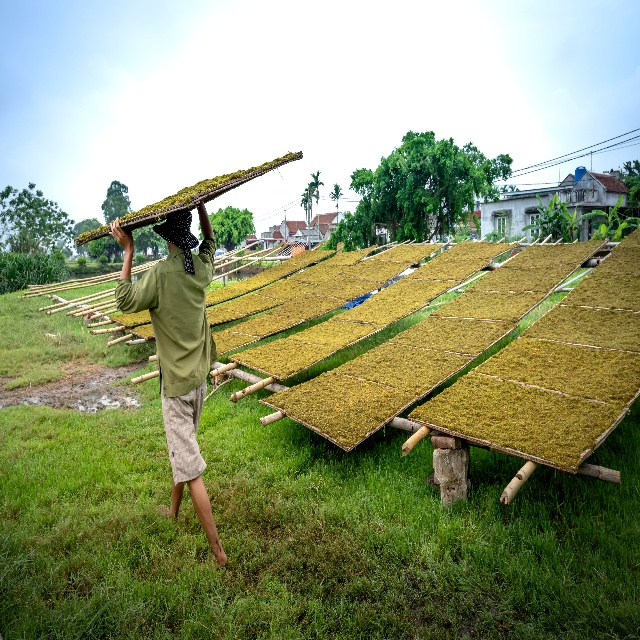Sin_guantes: (108, 218, 134, 249)
